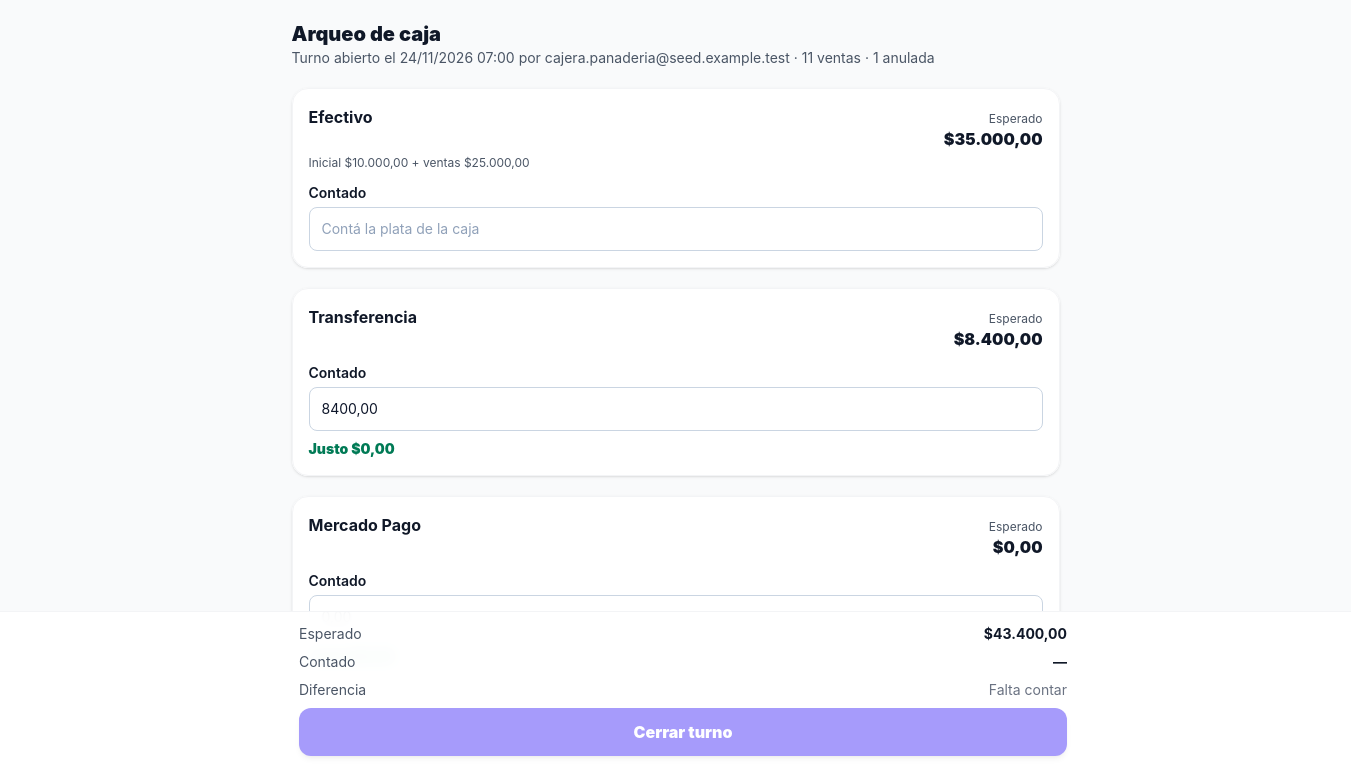
Test: Cierre de caja (/ventas/turnos/:id/cerrar) › si la API no deja cerrar, muestra su mensaje
Type "35000" into the field named "Contado en efectivo". click: point(676, 229)
box: x1=308 y1=207 x2=1042 y2=251
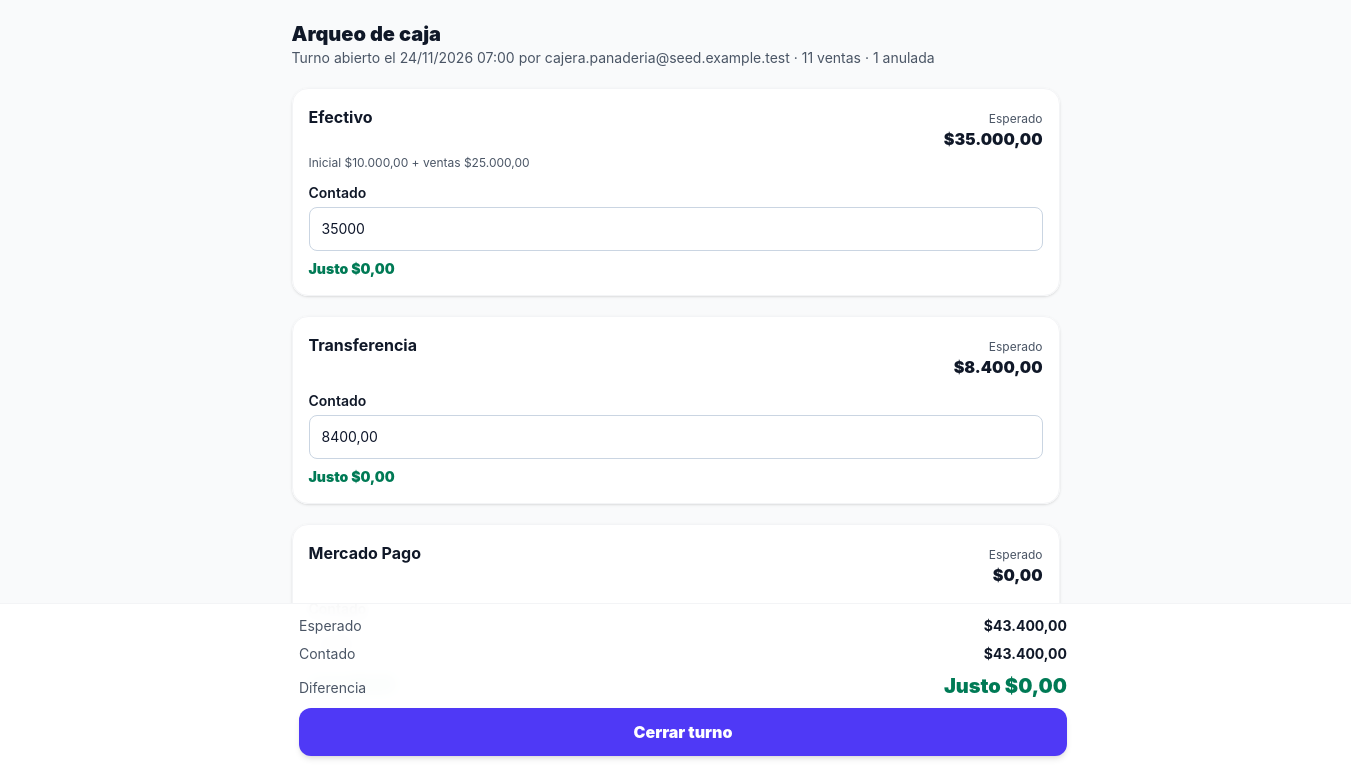
Click the button "Cerrar turno". click: point(683, 732)
box: x1=299 y1=708 x2=1067 y2=756
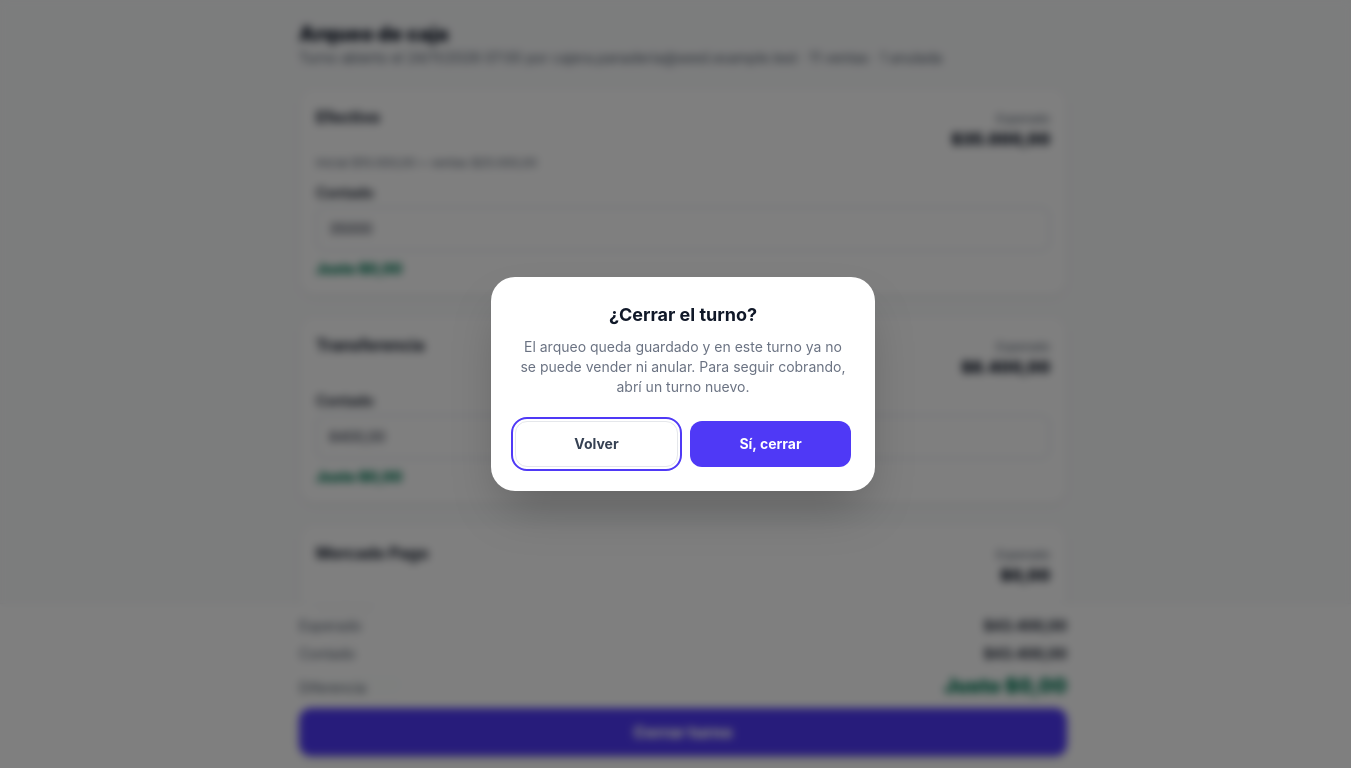
Click the button "Sí, cerrar". click: point(770, 444)
box: x1=690 y1=421 x2=851 y2=467
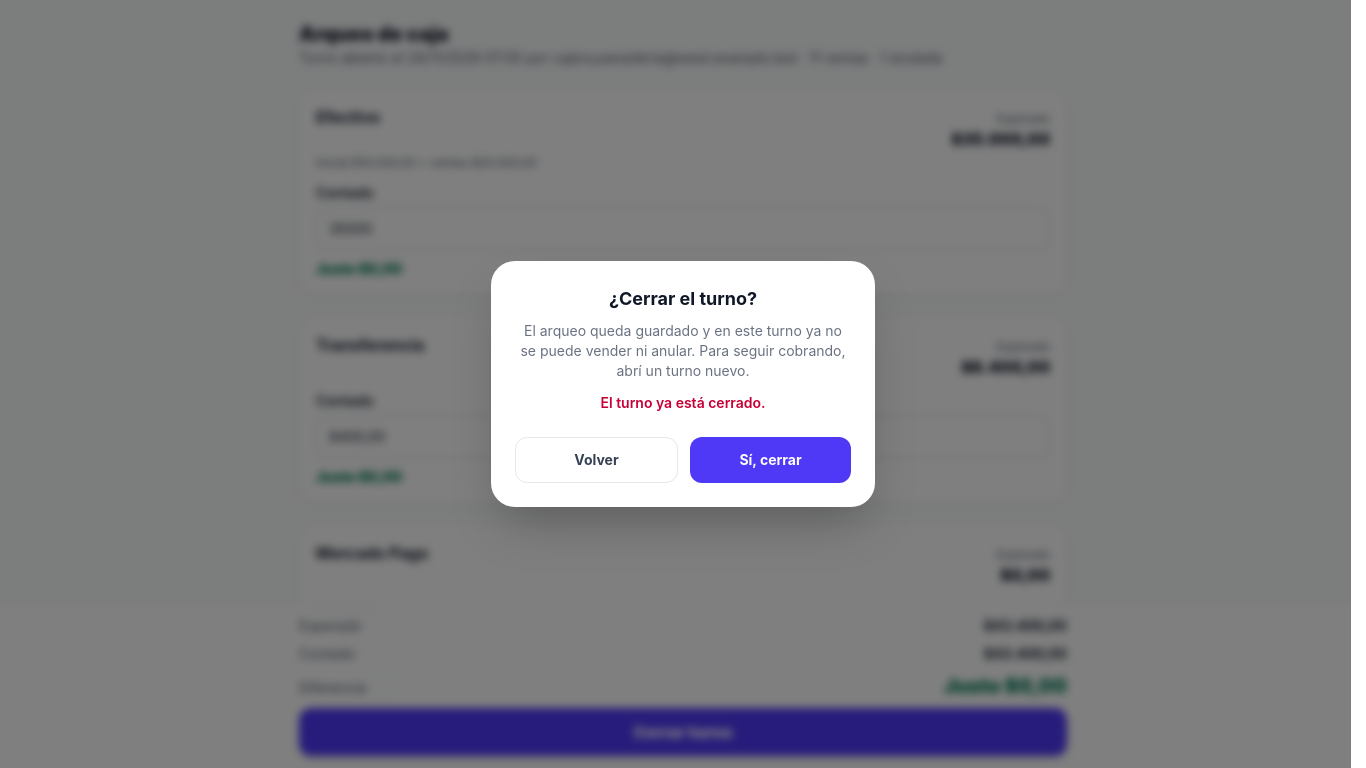
expect the text "El turno ya está cerrado." is shown: met, box x1=600 y1=394 x2=766 y2=411
